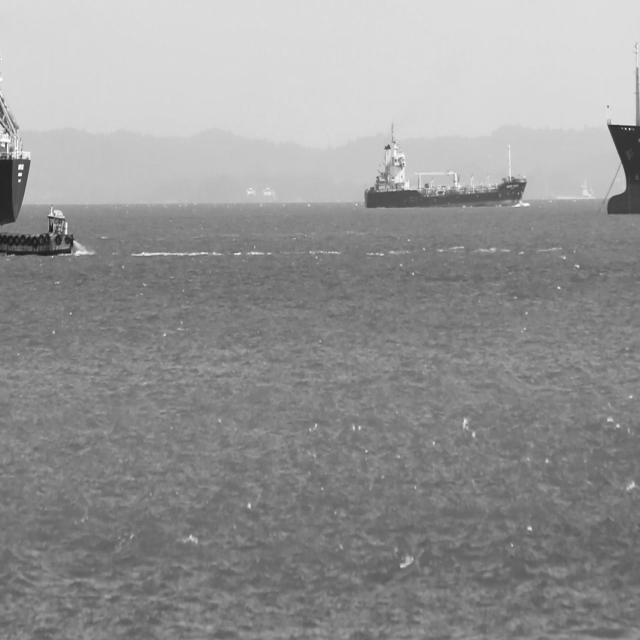ship: (363, 117, 526, 208), (607, 44, 640, 216), (0, 85, 31, 227), (0, 205, 76, 255)
